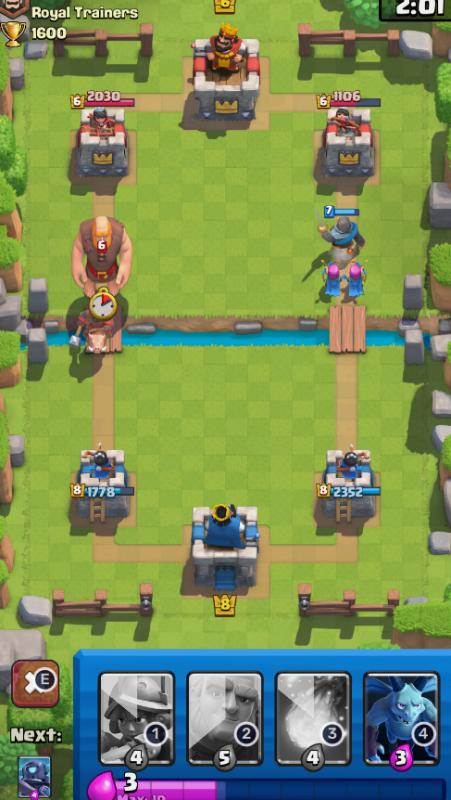archere: (345, 261, 380, 299), (318, 265, 347, 303)
chevalier: (297, 201, 368, 259)
geant: (73, 217, 131, 291)
